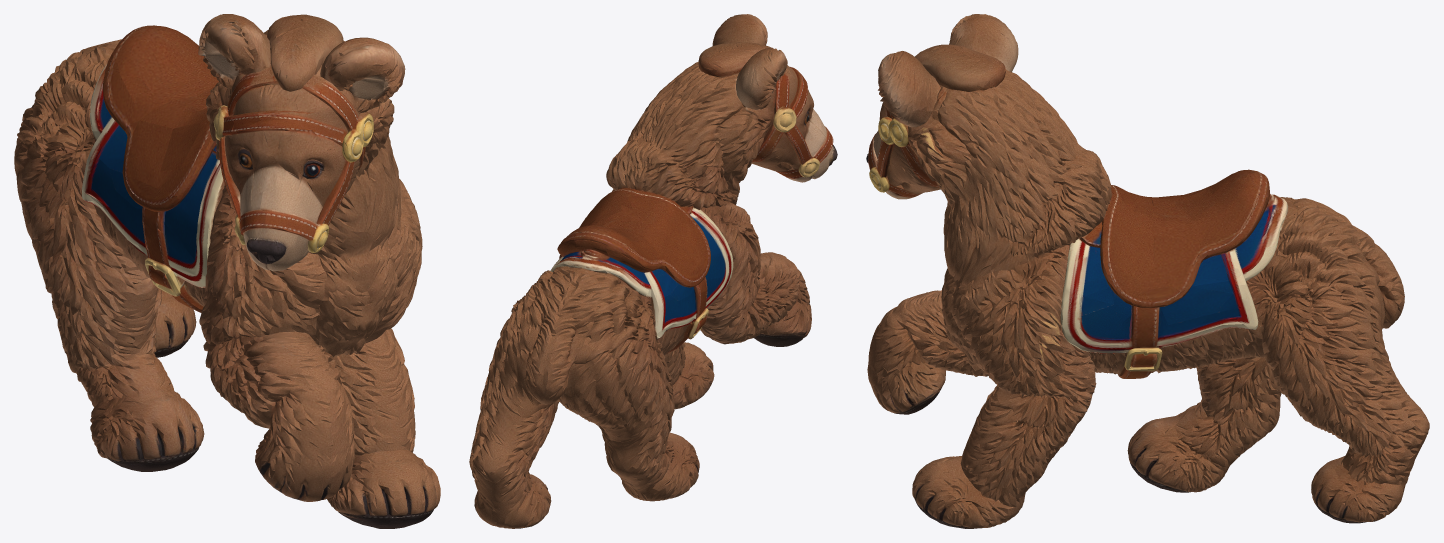
File: grizzly.glb
3 views of the same model, side by side, from view 1: azimuth 30°, elevation 25°; view 2: azimuth 150°, elevation 25°; view 3: azimuth 270°, elevation 25° (orthographic). The views are drawn at different scales.
Bounding box in the file's own units: 0.8045 × 1.69 × 1.9.
1 material, 1 textured.
